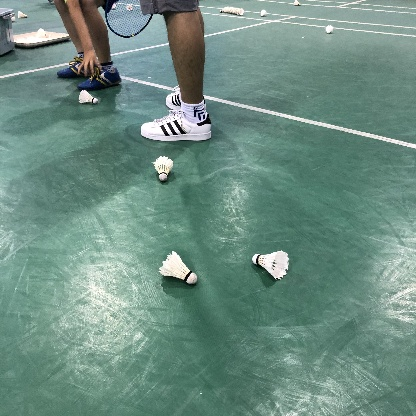ball_single: (158, 251, 197, 284), (252, 251, 289, 280), (154, 156, 173, 181), (78, 89, 98, 104), (220, 6, 244, 15), (326, 25, 333, 34), (261, 9, 267, 17), (293, 0, 301, 6)
